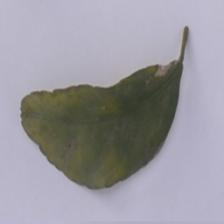black spot: (38, 68, 166, 168)
